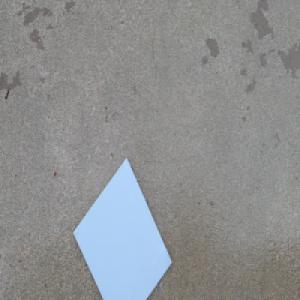PaintChip: (72, 156, 172, 300)
